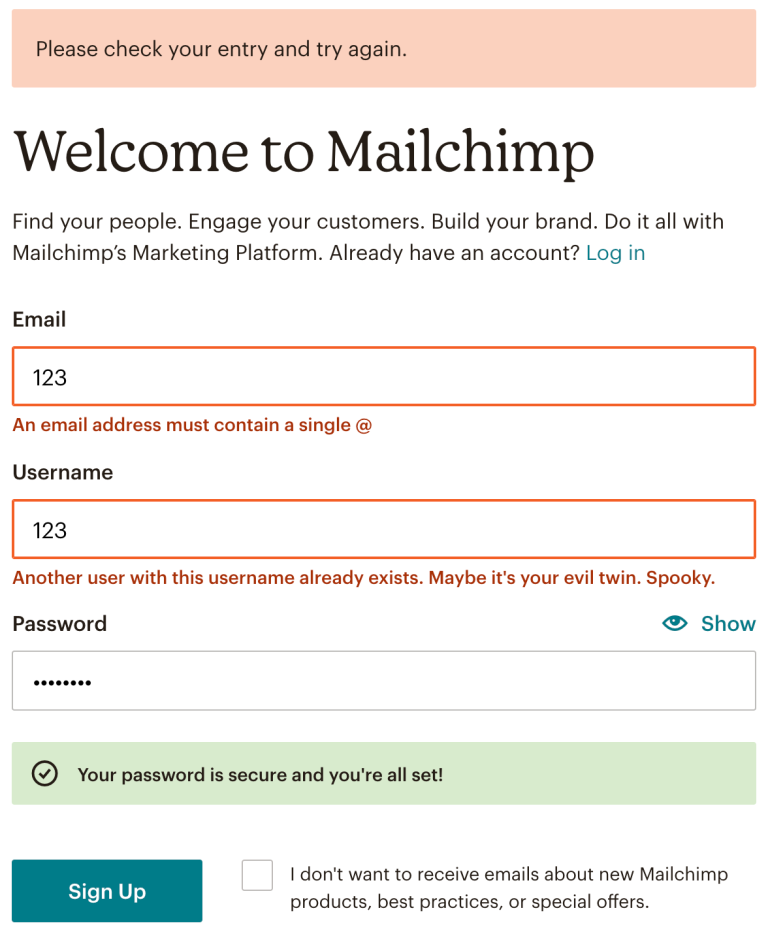error_field: (11, 346, 756, 408), (12, 500, 757, 560)
error_message: (10, 570, 715, 588), (31, 35, 408, 62), (8, 416, 374, 434)
